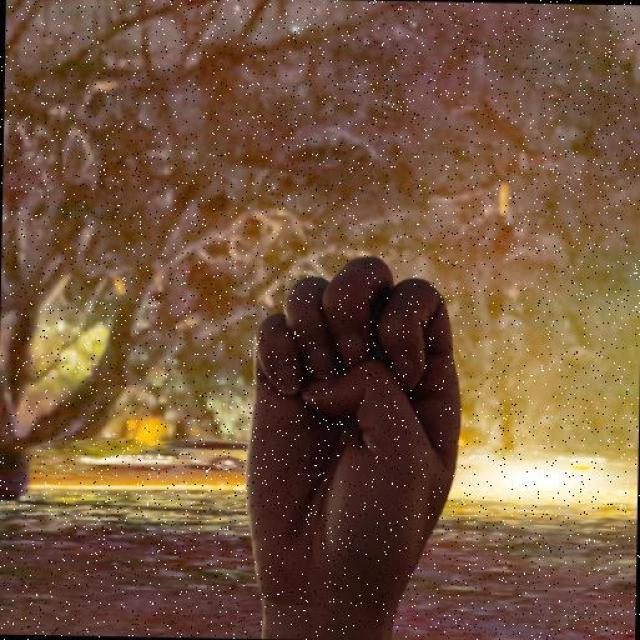E: (239, 246, 470, 600)
